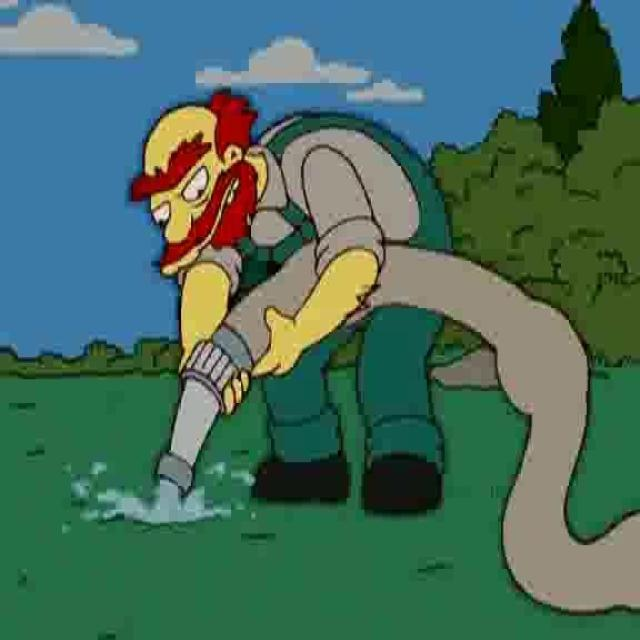Groundskeeper Willie: (126, 86, 272, 281)
